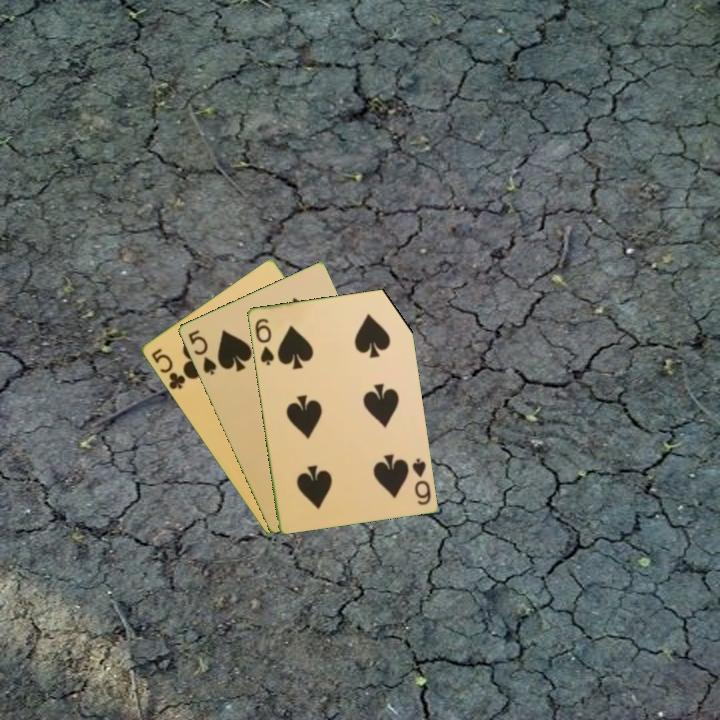5c: (147, 344, 188, 392)
5s: (184, 326, 219, 378)
6s: (251, 314, 277, 368), (408, 454, 433, 508)
